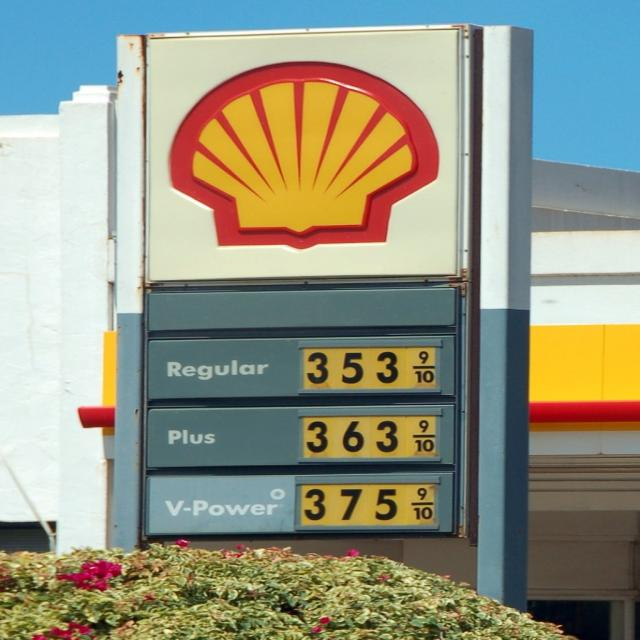shell: (167, 60, 442, 251)
